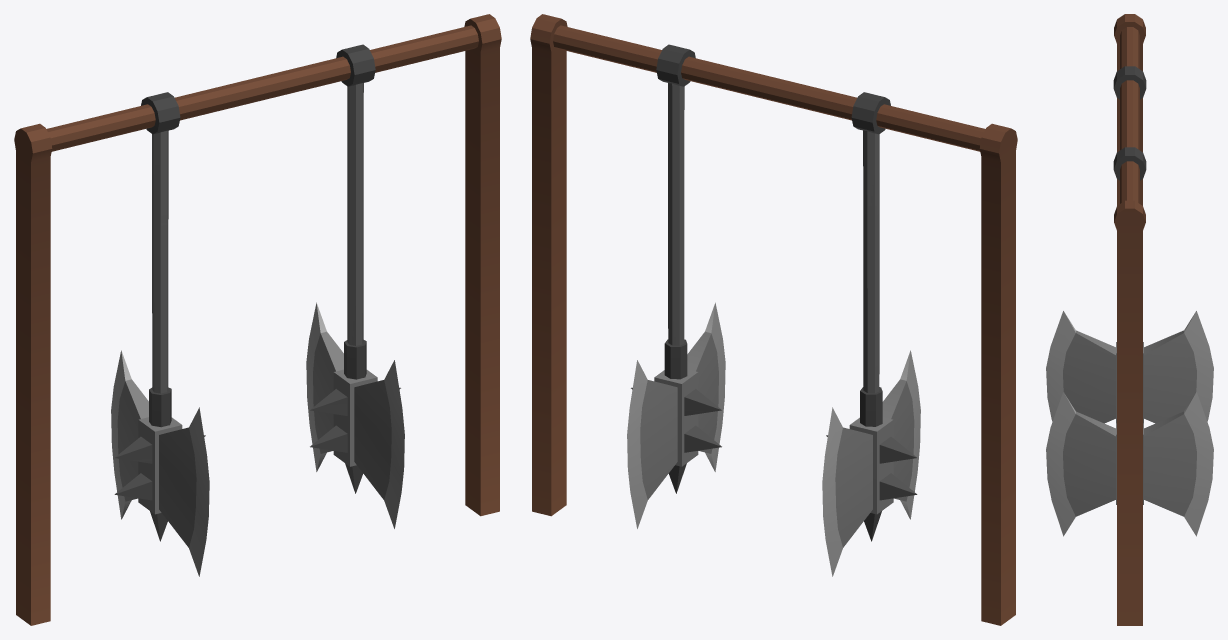
File: Double_Axe_Trap.fbx
3 renders of one model, left to right at view 1: azimuth 30°, elevation 25°; view 2: azimuth 150°, elevation 25°; view 3: azimuth 270°, elevation 25°, orthographic. The views are drawn at different scales.
Parts seen in each view (by area): view 1: Double_Axe_Trap, Axe_1, Axe_2; view 2: Double_Axe_Trap, Axe_2, Axe_1; view 3: Double_Axe_Trap, Axe_2, Axe_1.
Part boxes in pixels (x1,y1,x2,y2): Double_Axe_Trap: (14,14,501,625); Axe_1: (111,92,209,576); Axe_2: (306,44,404,528); Double_Axe_Trap: (530,14,1017,625); Axe_2: (627,44,725,528); Axe_1: (822,92,920,576); Double_Axe_Trap: (1114,14,1145,625); Axe_2: (1046,147,1213,536); Axe_1: (1046,66,1213,423).
Size of the model in its own units: 180 by 180 by 65.72.
Materials: 1 (1 with a texture image).
